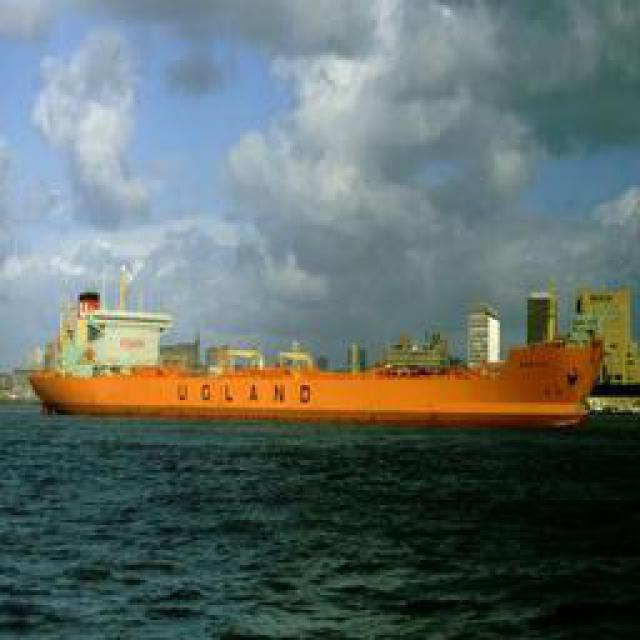Ship: (39, 332, 602, 430)
